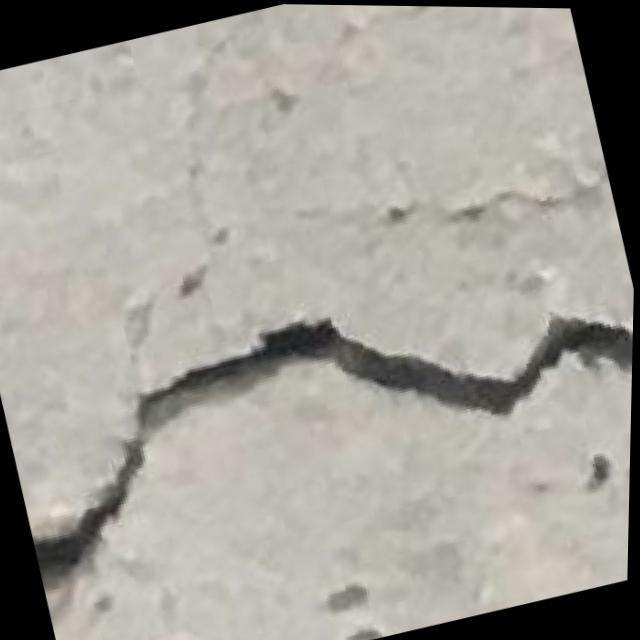Crack: (0, 221, 636, 628)
